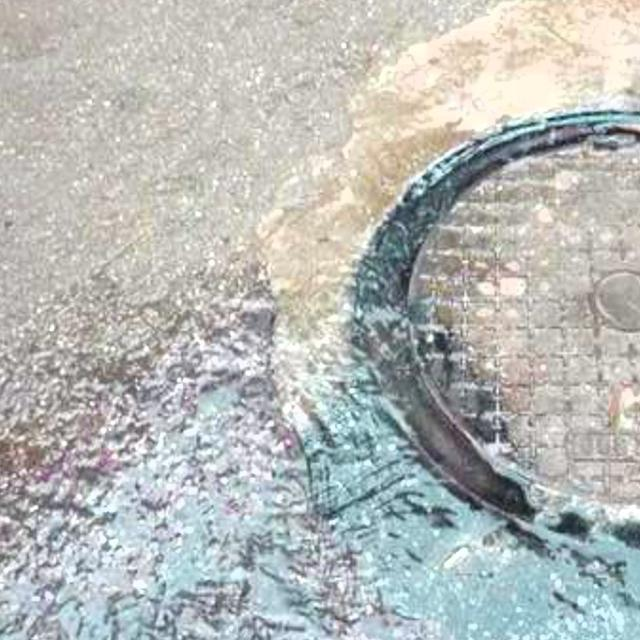circle: (270, 36, 640, 640)
